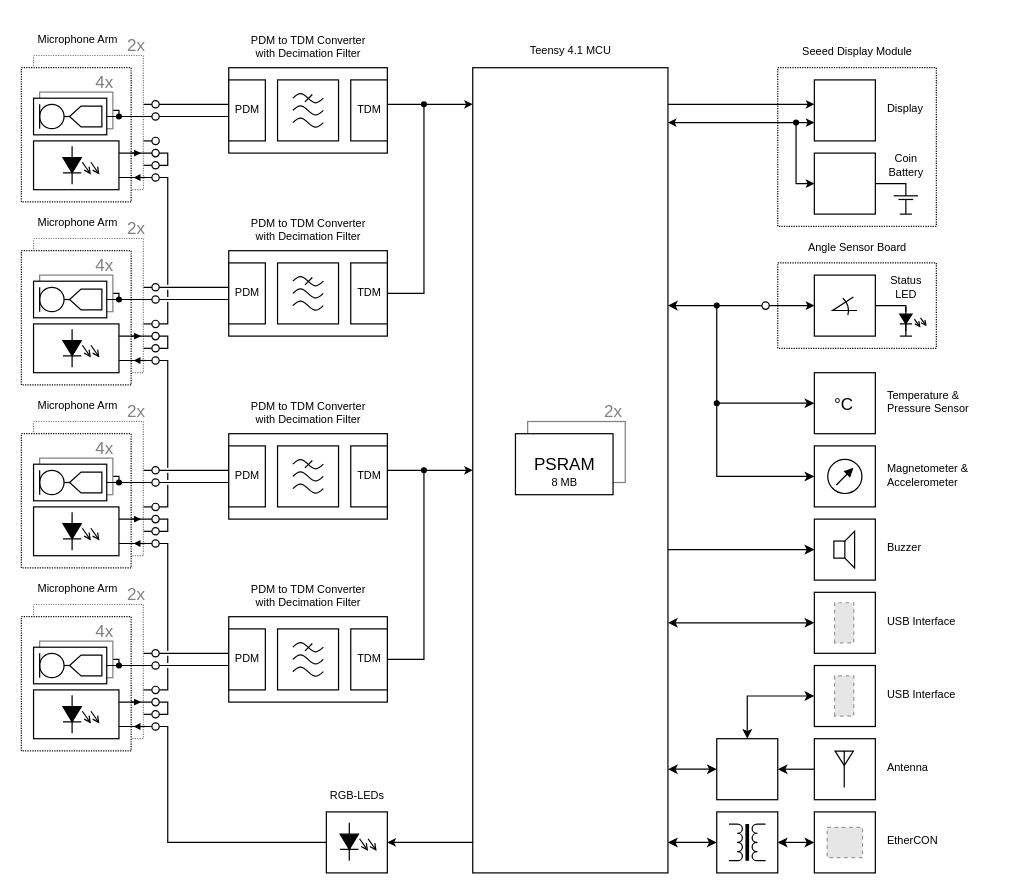
This 1016x894 diagram has some shape labels left out. Grey dashed boxes stand in for pictures. Each missing label, with the centre of its shape:
"GNSS" goes at point (747, 768).
"LCD" goes at point (844, 110).
"RTC" goes at point (844, 183).
